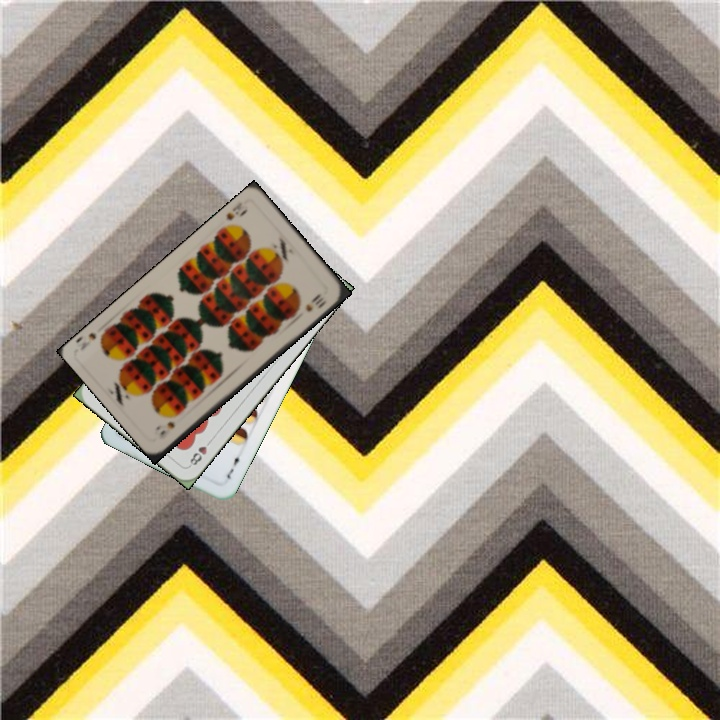E7: (222, 449, 245, 481)
H8: (185, 435, 215, 469)
S10: (222, 198, 250, 223), (155, 417, 178, 442)
